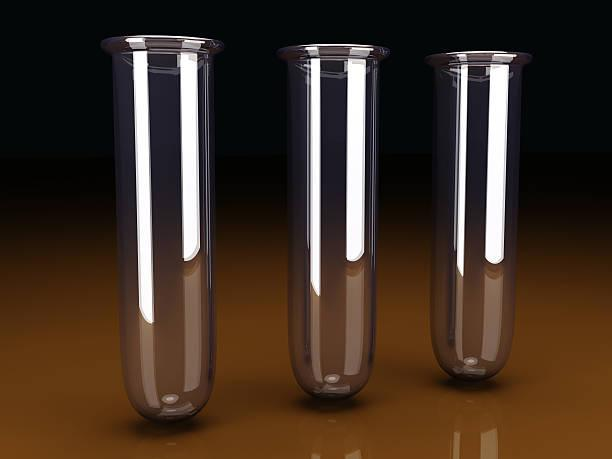Test tube: (107, 24, 235, 420), (278, 22, 398, 410), (428, 23, 535, 401)
